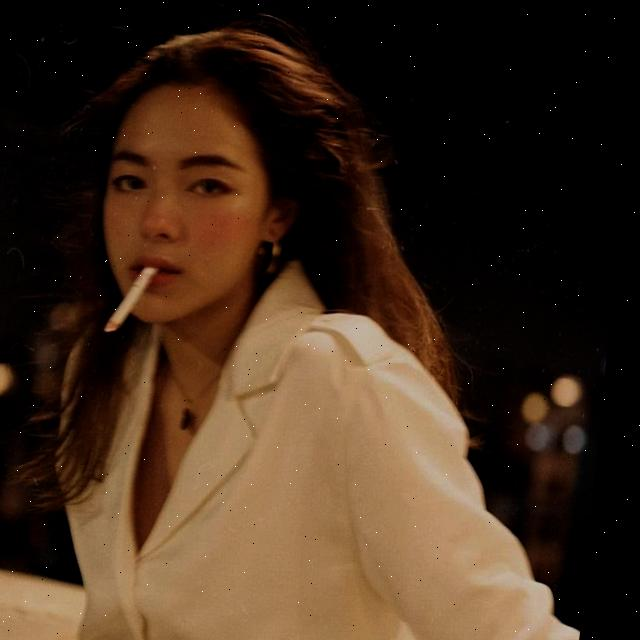cigarette: (109, 267, 165, 333)
